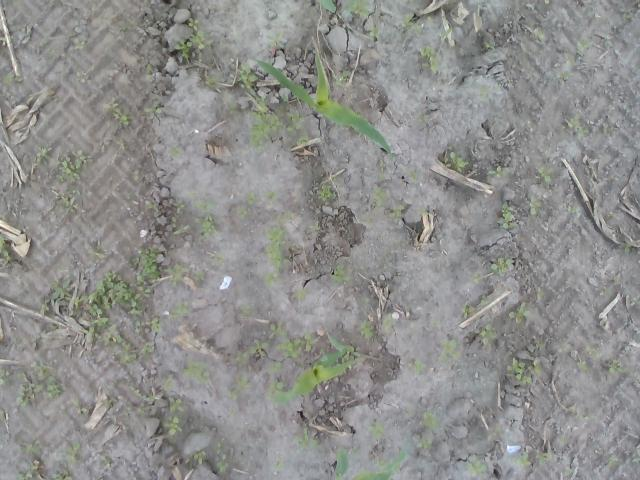Maize: (246, 52, 394, 156), (274, 335, 352, 405), (332, 446, 409, 480), (314, 0, 338, 12)
Weeds: (84, 269, 160, 364), (247, 95, 311, 154), (16, 359, 66, 407), (172, 191, 218, 241), (268, 320, 313, 371), (264, 210, 292, 287), (364, 183, 407, 225), (173, 16, 208, 65), (126, 241, 164, 285), (49, 274, 85, 314), (503, 352, 546, 384), (16, 437, 44, 480), (55, 150, 90, 182), (162, 396, 184, 442), (235, 338, 269, 365), (102, 94, 128, 127), (181, 357, 210, 386), (417, 44, 443, 75), (54, 189, 82, 216), (565, 38, 592, 66), (228, 374, 255, 402), (439, 338, 464, 367), (292, 426, 322, 450), (440, 150, 470, 174), (164, 261, 190, 288), (400, 13, 435, 33), (128, 382, 162, 402), (464, 453, 491, 476), (240, 62, 258, 96), (212, 436, 228, 474), (328, 262, 353, 286), (318, 175, 338, 202), (496, 200, 514, 230), (487, 255, 515, 274), (567, 116, 590, 139), (184, 447, 208, 469), (474, 324, 499, 344), (526, 192, 544, 218), (509, 301, 530, 323), (0, 233, 14, 265), (267, 30, 289, 50), (420, 410, 440, 432), (236, 301, 258, 321), (32, 142, 48, 168), (346, 0, 370, 17), (169, 300, 189, 320), (359, 318, 377, 340), (63, 442, 80, 465), (200, 72, 224, 88), (142, 99, 165, 115), (582, 342, 602, 360), (72, 398, 90, 418), (606, 358, 626, 376), (485, 166, 514, 178), (367, 421, 385, 440), (333, 69, 351, 88), (159, 372, 177, 390), (538, 166, 555, 185), (224, 92, 240, 112), (120, 15, 138, 32), (271, 378, 290, 393), (512, 452, 532, 466), (367, 25, 384, 41), (416, 113, 434, 128), (438, 24, 454, 40), (382, 314, 394, 335), (532, 26, 546, 44), (414, 358, 428, 375), (70, 36, 88, 49), (127, 405, 145, 418), (404, 168, 417, 186), (0, 366, 11, 387), (376, 158, 386, 181), (49, 470, 72, 480), (462, 303, 476, 319), (292, 286, 308, 300), (234, 206, 250, 220), (264, 190, 280, 204), (168, 145, 185, 158), (534, 286, 546, 304), (536, 452, 553, 464), (39, 296, 50, 314), (87, 247, 106, 257), (624, 241, 638, 254), (46, 46, 56, 64), (246, 191, 256, 208), (144, 63, 154, 80), (100, 456, 114, 468), (576, 410, 592, 420), (194, 270, 210, 280), (482, 38, 495, 50), (478, 84, 489, 98), (631, 448, 640, 464), (271, 462, 287, 471), (576, 358, 588, 370), (4, 70, 16, 81), (472, 271, 482, 284), (418, 440, 432, 449), (622, 11, 633, 22), (608, 454, 618, 466), (562, 466, 574, 476), (534, 338, 546, 348), (309, 222, 321, 232), (215, 254, 225, 266), (558, 70, 570, 80), (630, 295, 640, 306), (566, 206, 576, 216), (0, 35, 8, 46), (494, 82, 503, 91), (120, 144, 129, 152), (10, 336, 18, 344)
